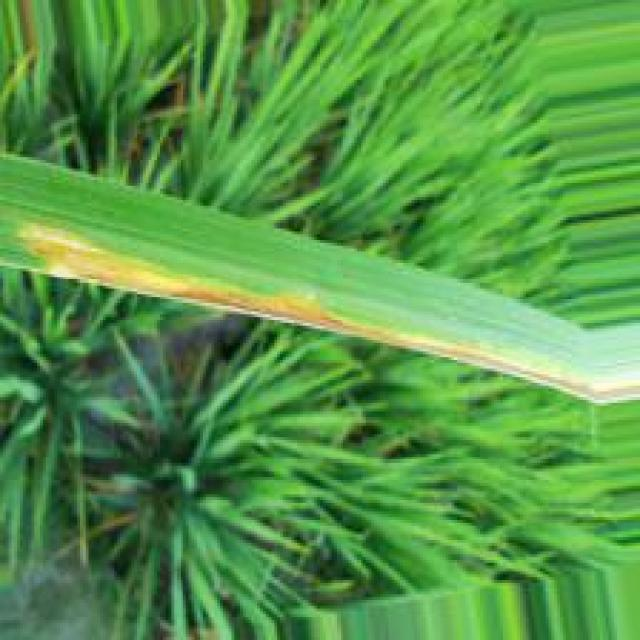Bacterial_Leaf_Blight: (22, 221, 596, 402)
